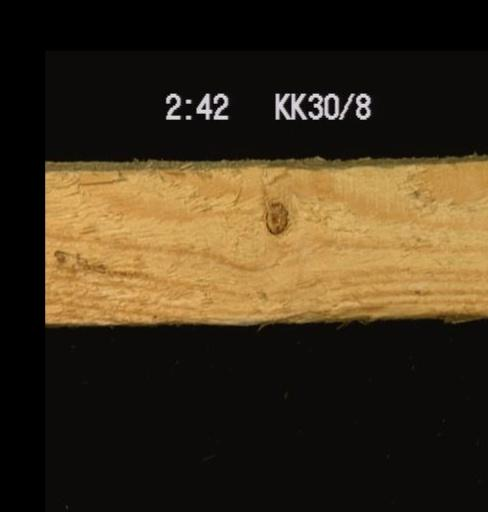dry_knot: (262, 197, 289, 237)
split: (65, 165, 132, 196)
